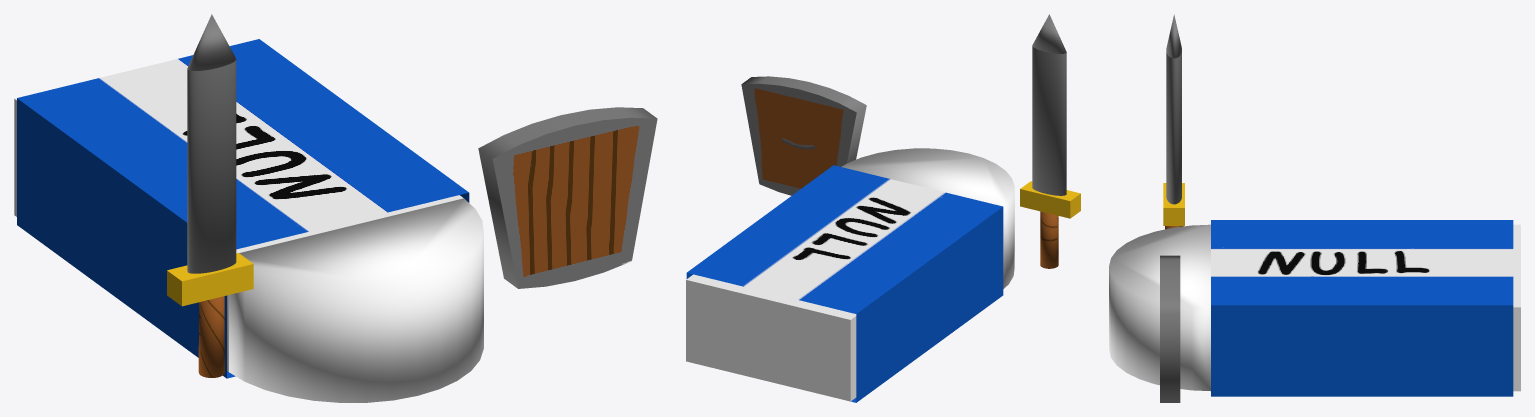
File: Eraser.fbx
The picture shows the model from 3 angles, left to right: view 1: azimuth 30°, elevation 25°; view 2: azimuth 150°, elevation 25°; view 3: azimuth 270°, elevation 25°; orthographic projection. The views are drawn at different scales.
Parts seen in each view (by area): view 1: Eraser.002; view 2: Eraser.002; view 3: Eraser.002.
Boxes of the visible parts, x1,y1,x2,y2 form: Eraser.002: (14,14,657,402); Eraser.002: (686,14,1080,402); Eraser.002: (1109,14,1520,402).
Bounding box in the file's own units: 3.82 × 3.04 × 4.
